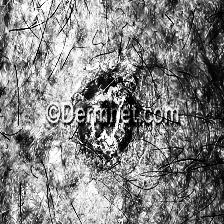Benign Marking or Mole: (82, 75, 138, 157)
